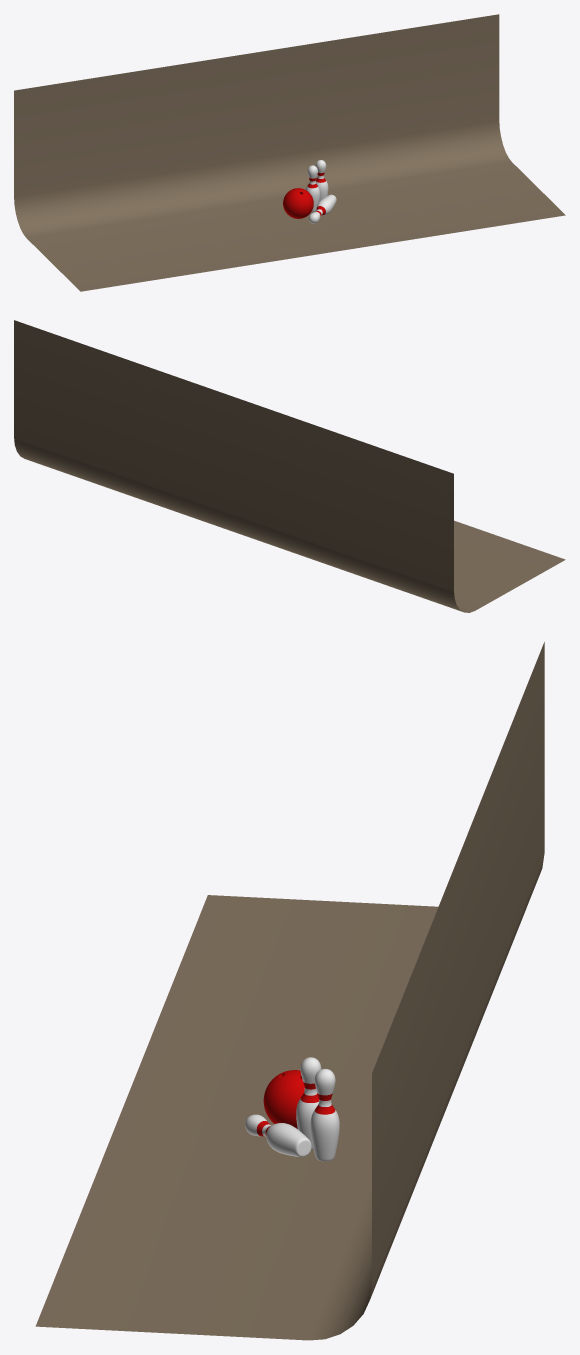
File: Bowling_Ball_and_Pins.fbx
3 renders of one model, top to bottom at view 1: azimuth 30°, elevation 25°; view 2: azimuth 150°, elevation 25°; view 3: azimuth 270°, elevation 25°, orthographic. The views are drawn at different scales.
Visible parts, largest first — view 1: Base, Bowling_Ball, Bowling_Pin, Bowling_Pin.001, Bowling_Pin.002; view 2: Base; view 3: Base, Bowling_Pin.002, Bowling_Ball, Bowling_Pin, Bowling_Pin.001.
Boxes of the visible parts, box(x1,y1,x2,y2) form: Base: box(14, 14, 565, 291); Bowling_Ball: box(283, 188, 313, 218); Bowling_Pin: box(309, 194, 336, 223); Bowling_Pin.001: box(305, 165, 320, 211); Bowling_Pin.002: box(315, 160, 328, 201); Base: box(14, 320, 565, 612); Base: box(35, 642, 544, 1340); Bowling_Pin.002: box(310, 1069, 339, 1161); Bowling_Ball: box(263, 1070, 304, 1128); Bowling_Pin: box(245, 1114, 311, 1156); Bowling_Pin.001: box(296, 1057, 321, 1149).
Bounding box in the file's own units: 619 × 174 × 297.
